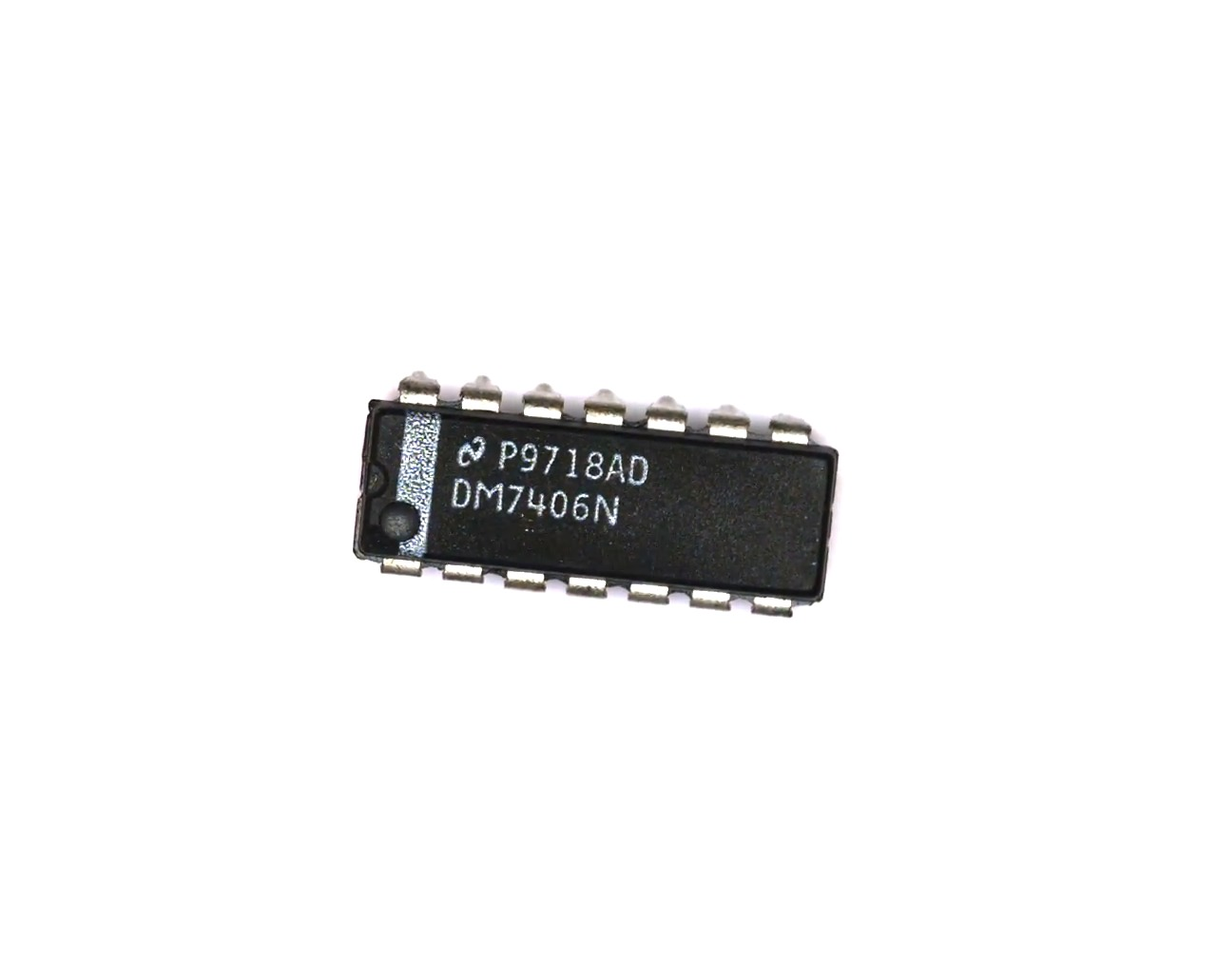IC: (344, 362, 849, 633)
notch: (356, 454, 394, 500)
